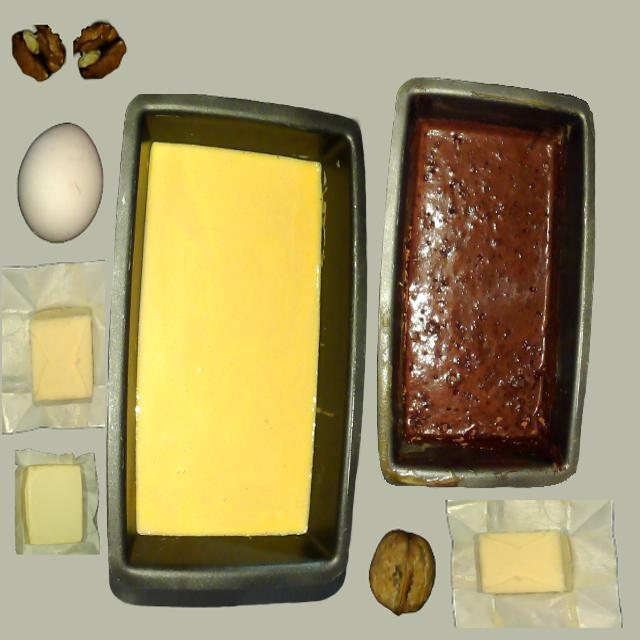Walnut: (368, 531, 434, 615)
